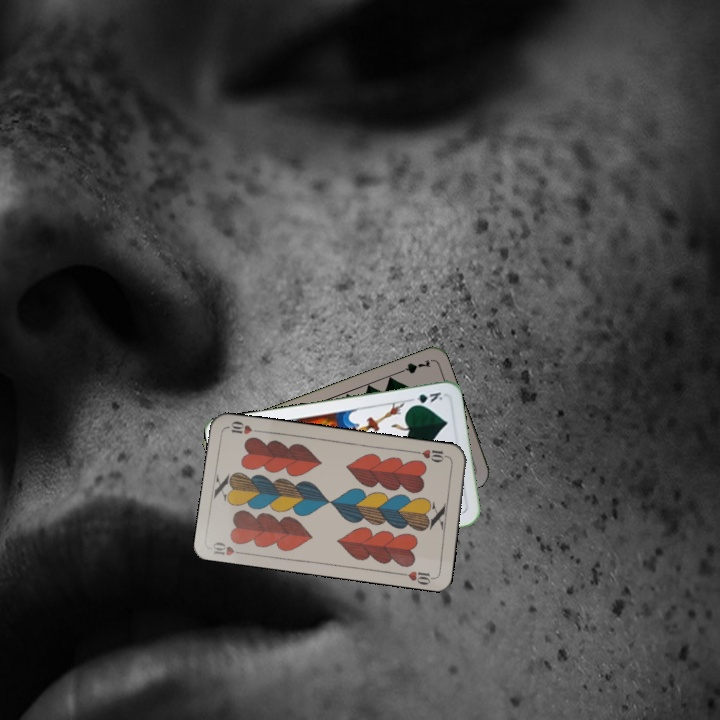G7: (393, 356, 433, 377)
GK: (405, 388, 445, 409)
H10: (411, 445, 452, 465), (209, 537, 248, 558)
